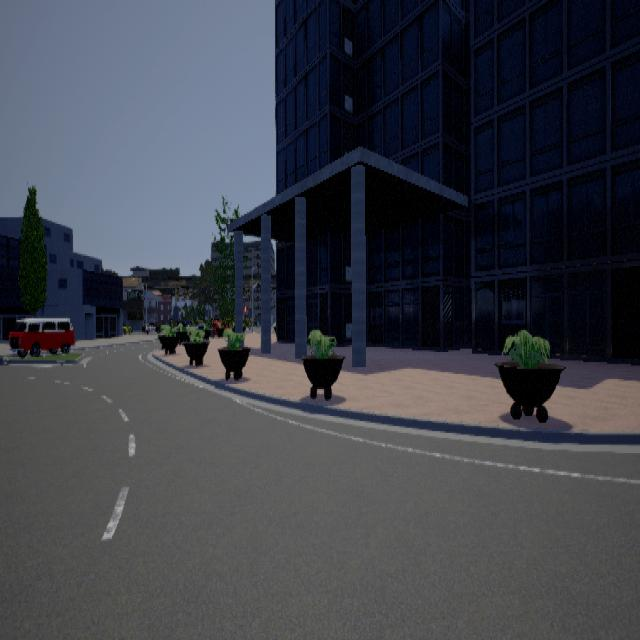vehicle: (8, 317, 75, 357)
